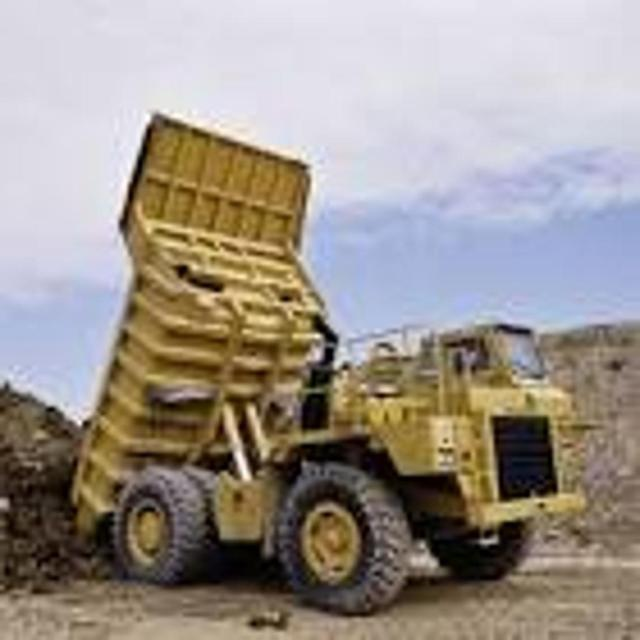dump_truck: (69, 95, 594, 607)
